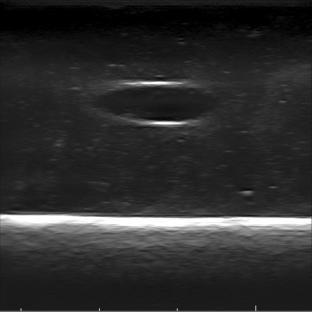vessel: (97, 80, 217, 128)
